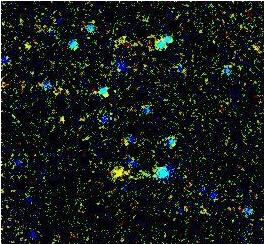star: (104, 157, 134, 187)
